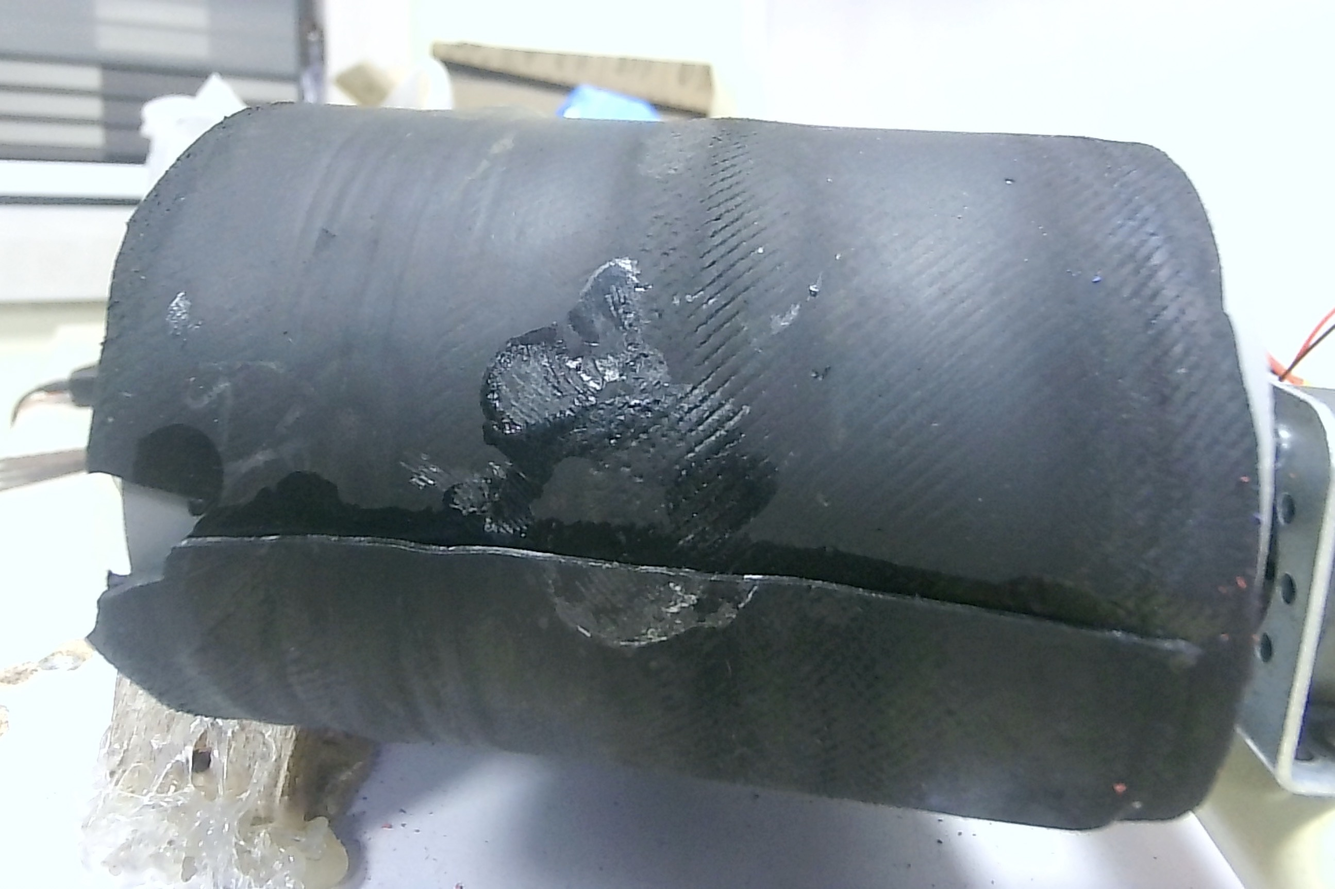joint_damage: (40, 457, 340, 646)
